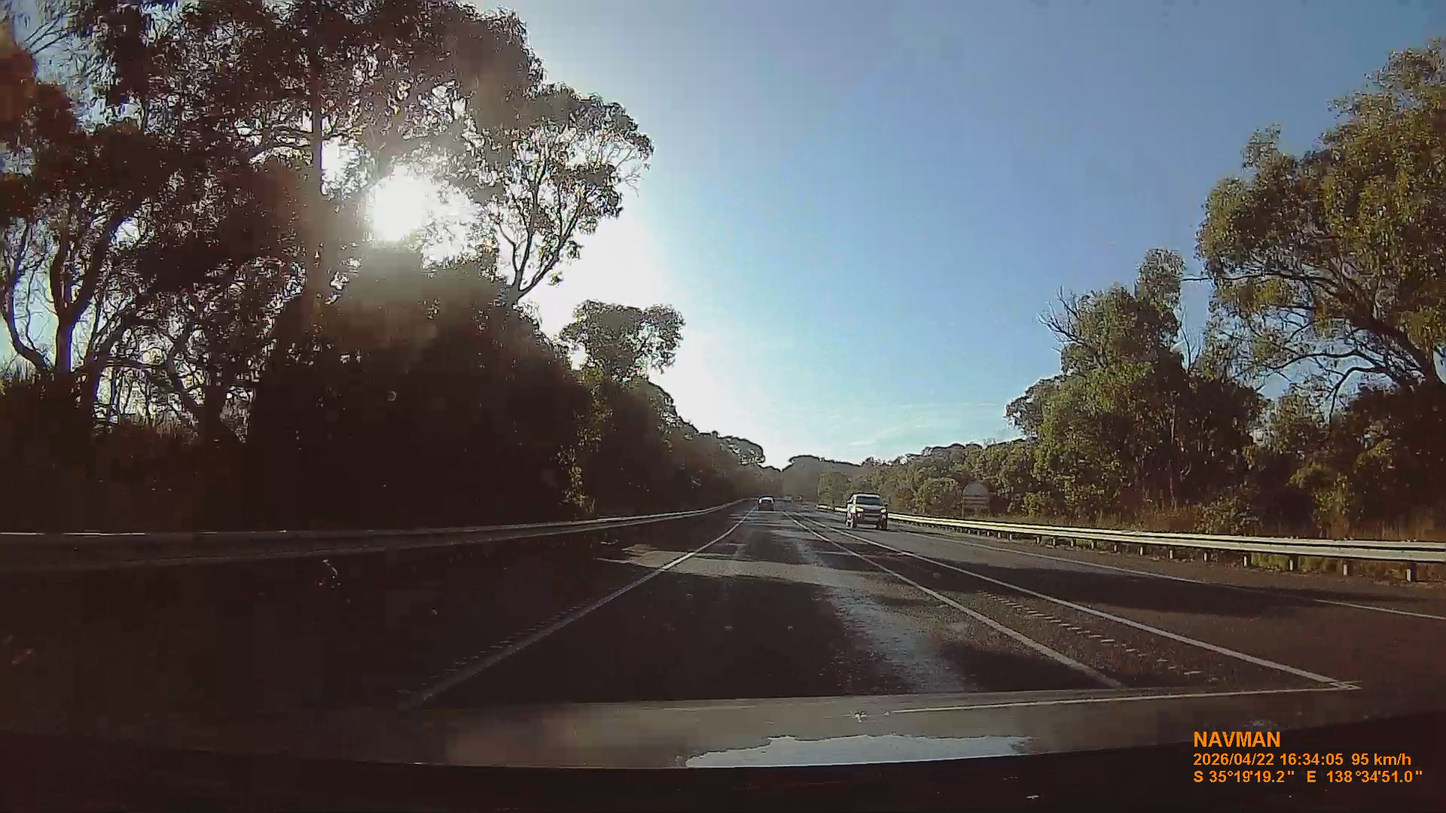road barriers: (0, 499, 747, 576), (892, 515, 1445, 565)
